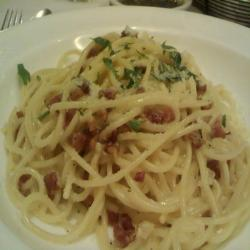carbonara: (7, 30, 248, 250)
